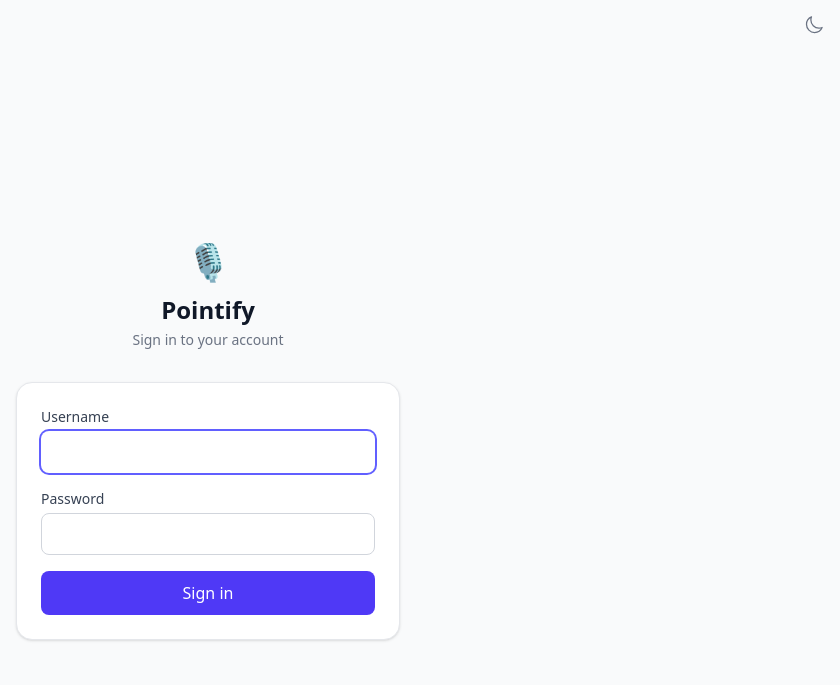
Test case: Login › shows error on failed login
In the field labelled "Username": x=208, y=452 [41, 431, 375, 473], type "bad"
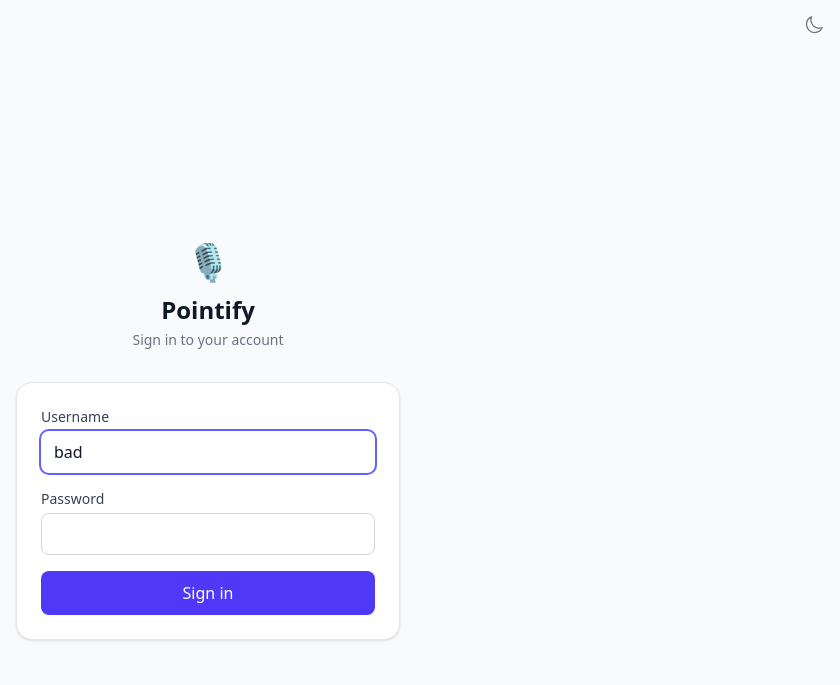
In the password field labelled "Password": x=208, y=534 [41, 513, 375, 555], type "wrong"
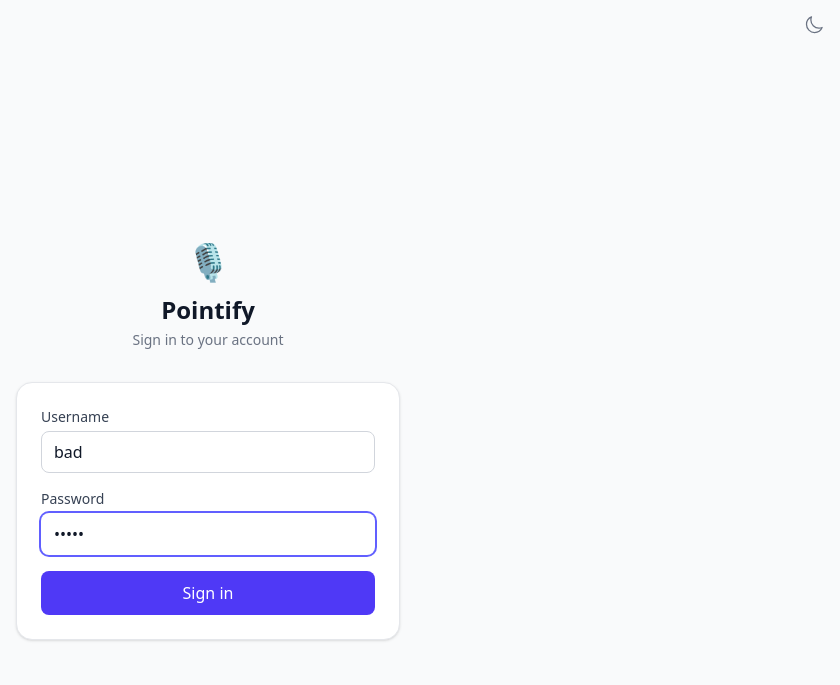
Click the button "Sign in": x=208, y=593 [41, 571, 375, 615]
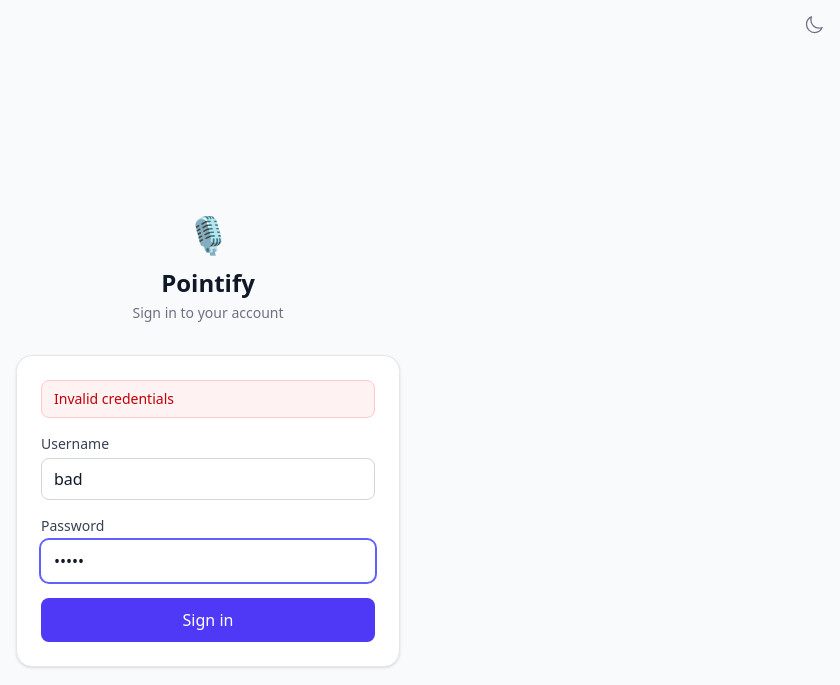
Now the message "Invalid credentials" is shown, box [41, 380, 375, 418]
